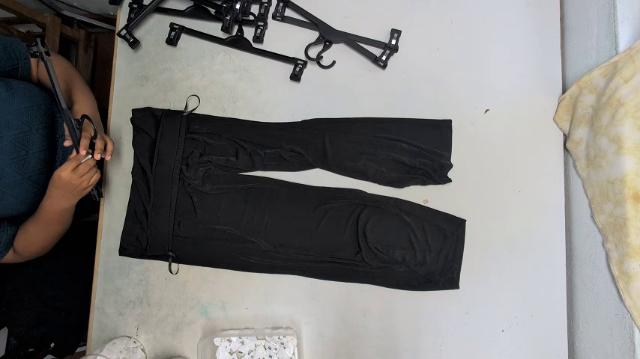new-garment: (121, 108, 465, 290)
